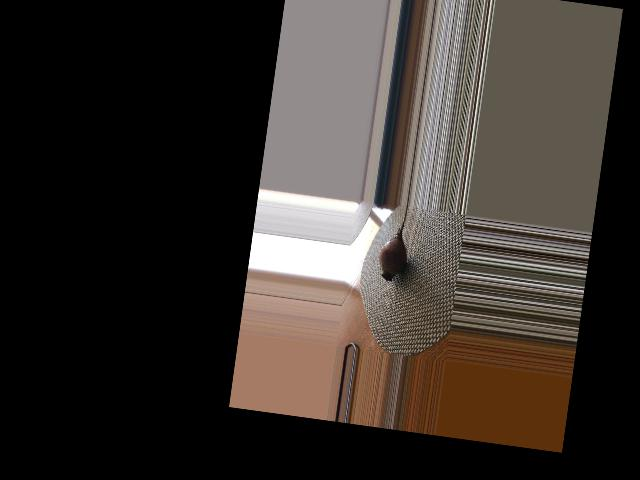beet: (376, 204, 413, 283)
